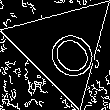O_NW: (30, 13, 97, 80)
